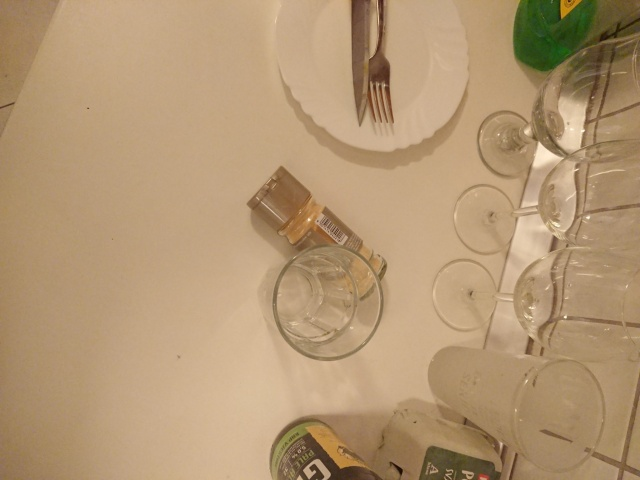Kotanyi Garlic Granules 70g: (244, 165, 391, 303)
